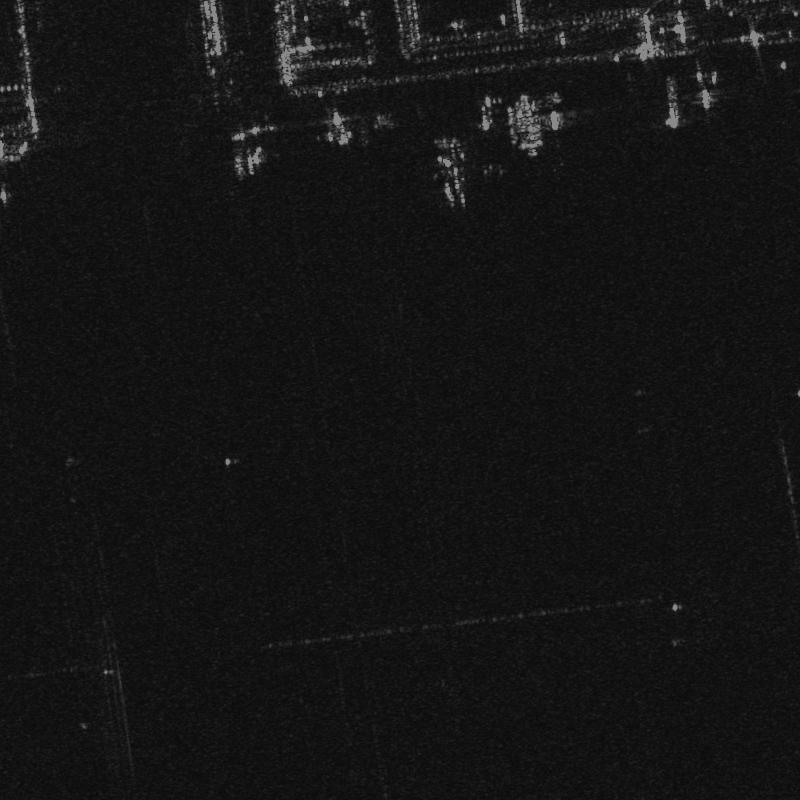Boeing787: (416, 135, 494, 210)
